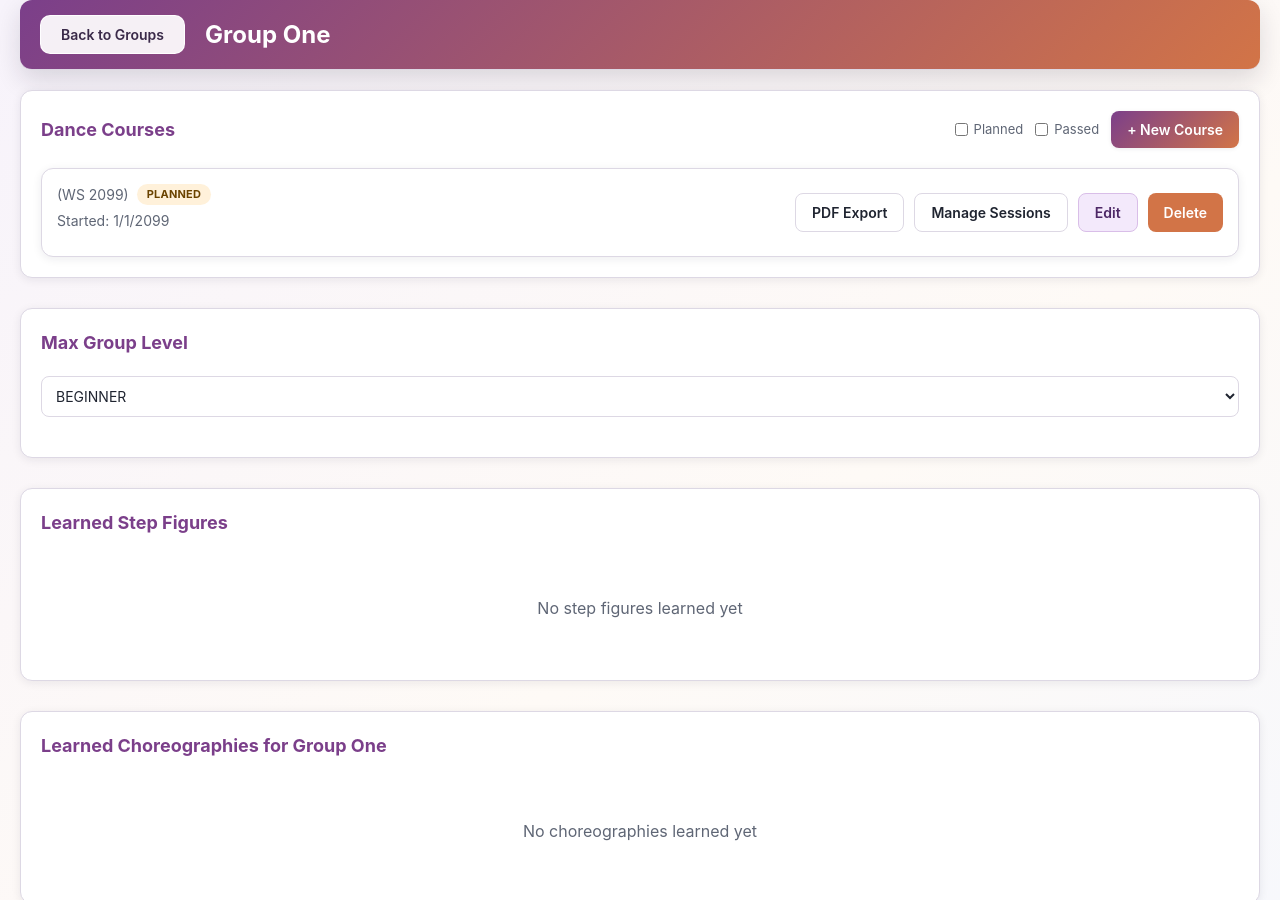
Test: DanceGroupDetail › shows the next planned course by default when no running courses exist
Expected: the heading "Group One" is shown, [205, 20, 330, 48]
Expected: the text "(WS 2099)" is shown, [57, 184, 129, 205]
Click the checkbox labelled "Planned": (961, 130) [955, 123, 968, 136]
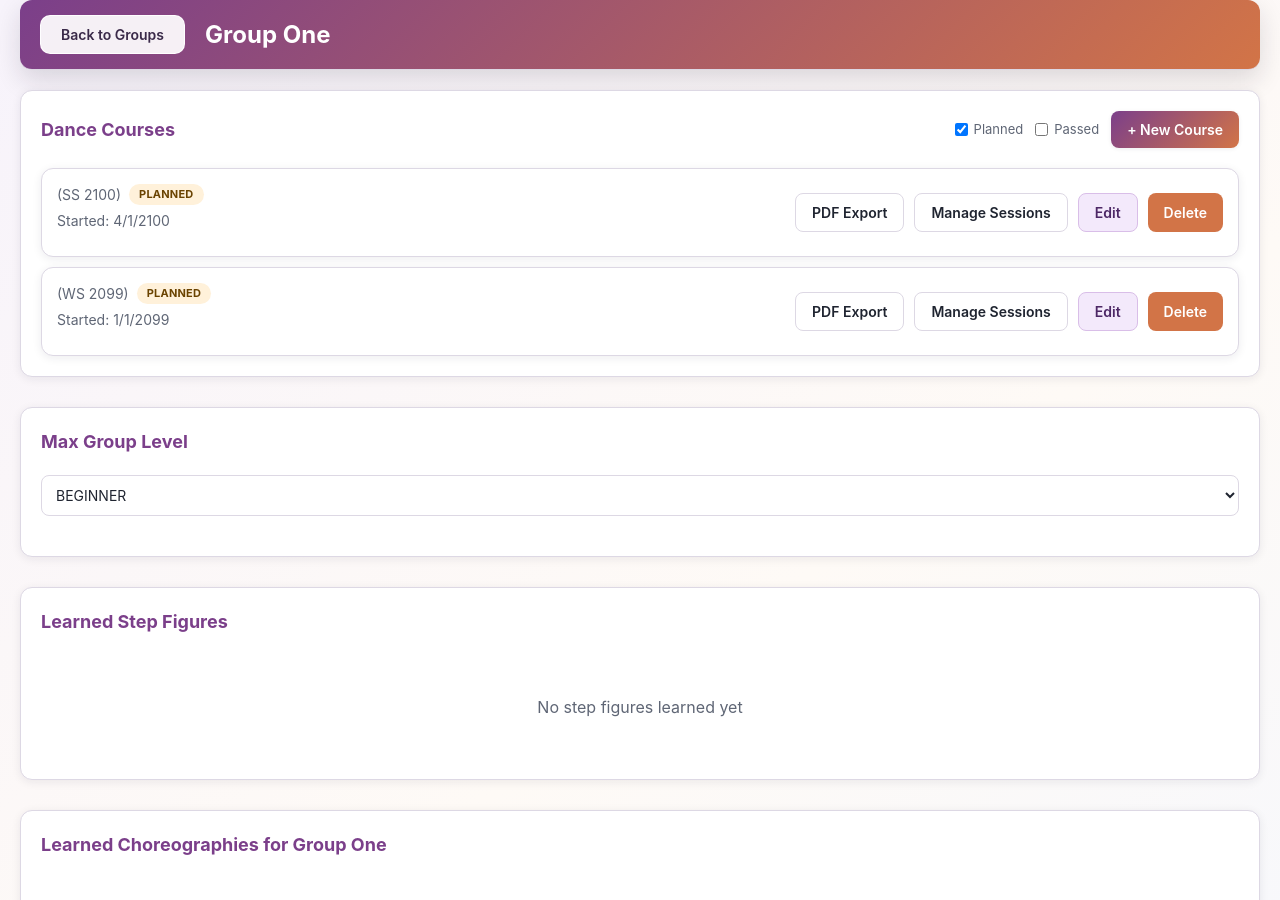
Result: the text "(SS 2100)" is shown at [57, 184, 121, 205]
